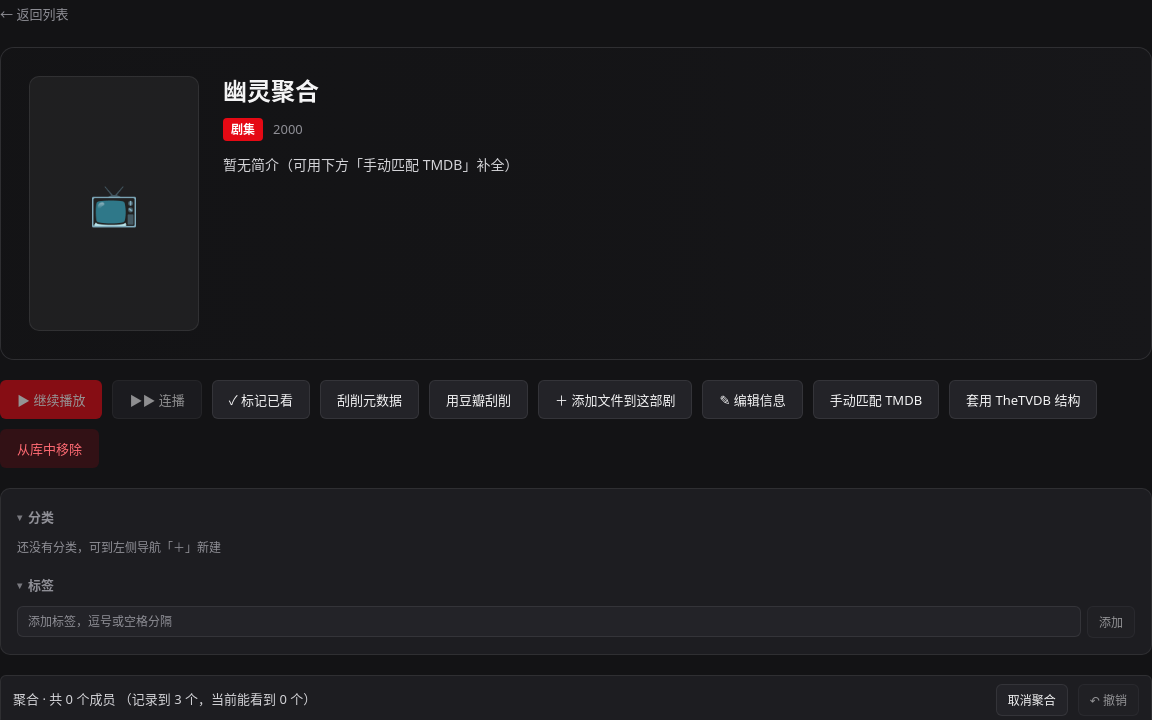
it: MediaDetail 取消聚合 › child_count 过期（记录到有子级、实际一个都没有）：不发请求，给出说明
Click the button "取消聚合".
click(1032, 700)  # box [996,684,1068,716]
(page scrolled)
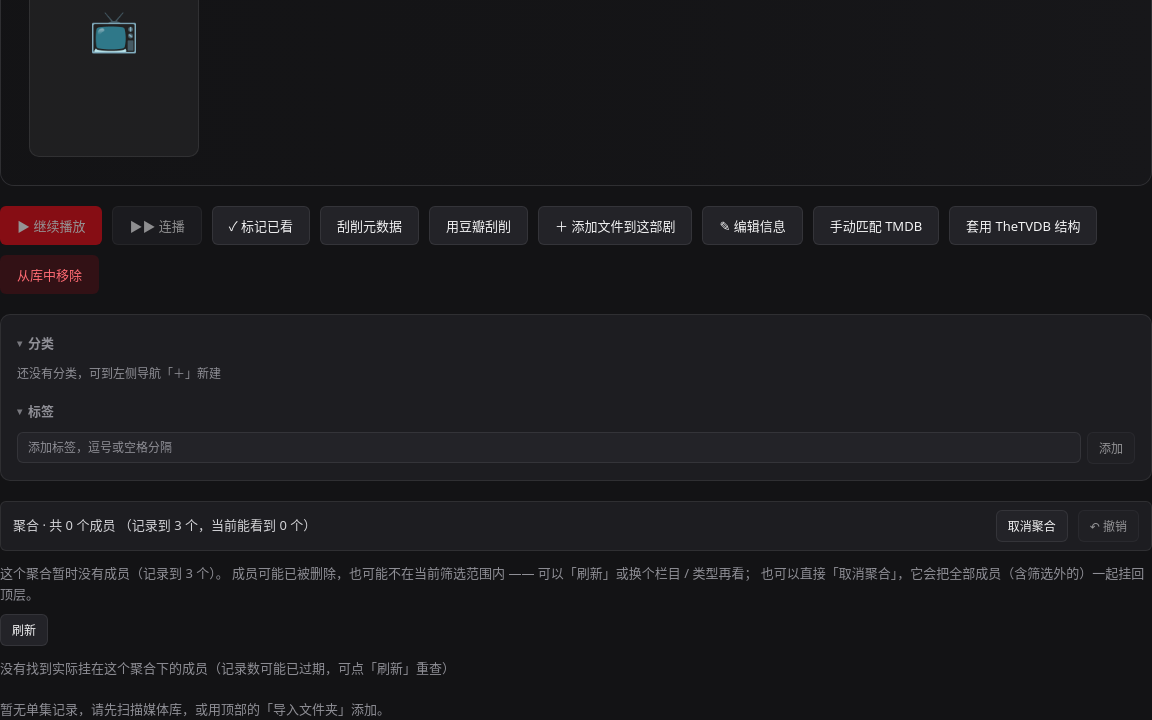
Check: the text "没有找到实际挂在这个聚合下的成员（记录数可能已过期，可点「刷新」重查）" is shown, box [0,659,455,677]
